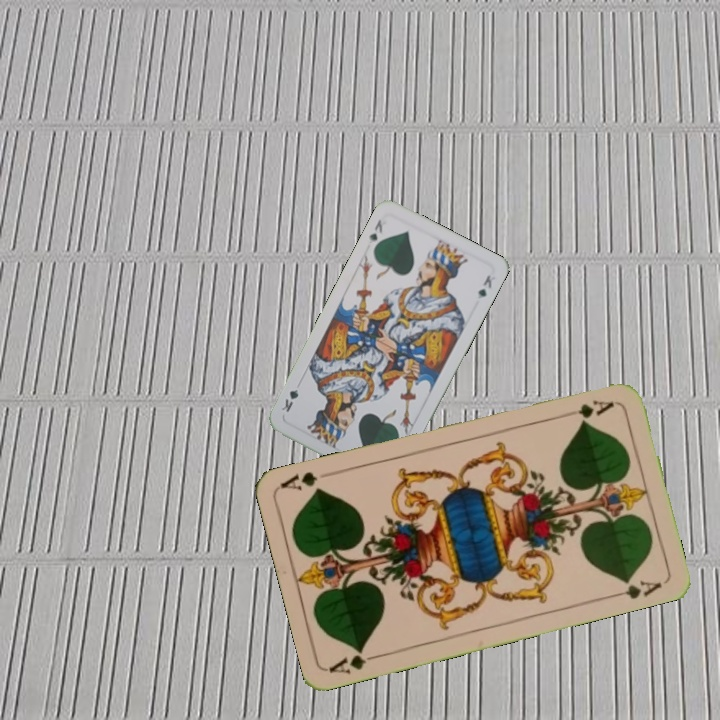GA: (326, 645, 384, 677), (574, 395, 617, 424)
GK: (365, 215, 385, 247)
